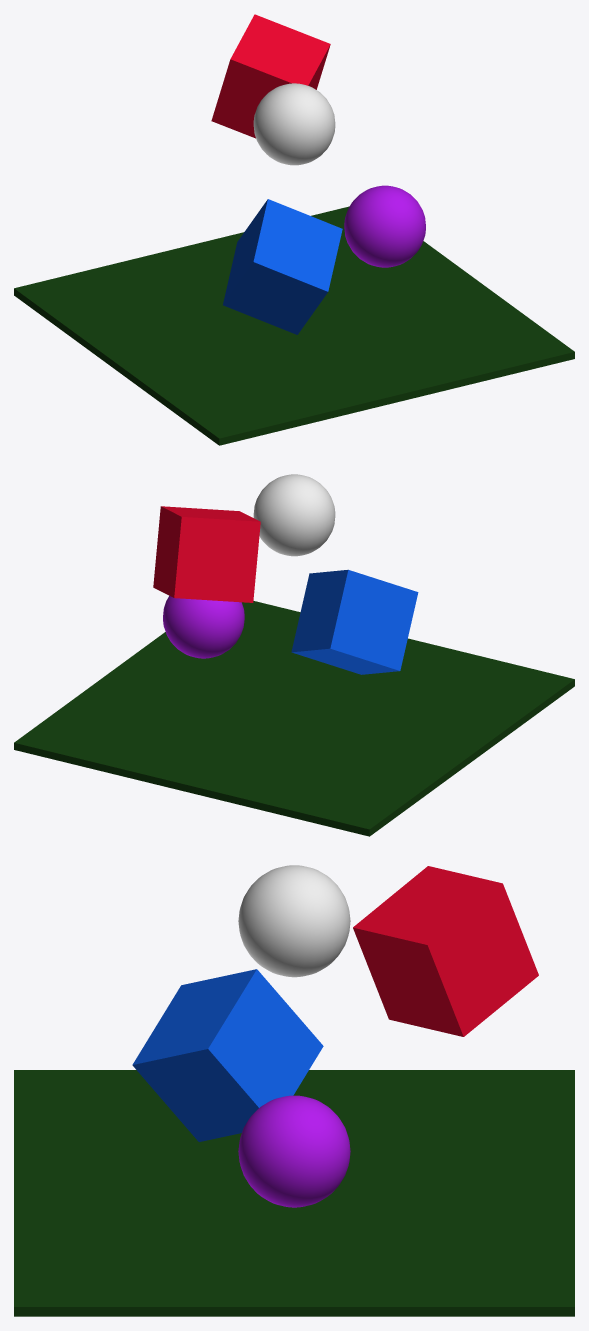
The model's file is cubes.glb.
3 views of the same model, one above another, from view 1: azimuth 30°, elevation 25°; view 2: azimuth 150°, elevation 25°; view 3: azimuth 270°, elevation 25° (orthographic). The views are drawn at different scales.
Visible parts, largest first — view 1: ground, Cube1, Cube2, Sphere, Sphere.001; view 2: ground, Cube1, Cube2, Sphere, Sphere.001; view 3: ground, Cube2, Cube1, Sphere.001, Sphere.
Part boxes in pixels (x1=…): ground: x1=14, y1=206, x2=574, y2=445; Cube1: x1=223, y1=199, x2=342, y2=334; Cube2: x1=211, y1=14, x2=330, y2=138; Sphere: x1=253, y1=83, x2=335, y2=165; Sphere.001: x1=344, y1=185, x2=425, y2=267; ground: x1=14, y1=601, x2=574, y2=836; Cube1: x1=291, y1=569, x2=418, y2=674; Cube2: x1=153, y1=506, x2=260, y2=602; Sphere: x1=253, y1=474, x2=335, y2=556; Sphere.001: x1=163, y1=596, x2=244, y2=658; ground: x1=14, y1=1070, x2=574, y2=1316; Cube2: x1=353, y1=866, x2=538, y2=1036; Cube1: x1=132, y1=969, x2=323, y2=1141; Sphere.001: x1=238, y1=1095, x2=350, y2=1207; Sphere: x1=238, y1=865, x2=350, y2=977.
Size of the model in its own units: 10 by 6.67 by 10.
